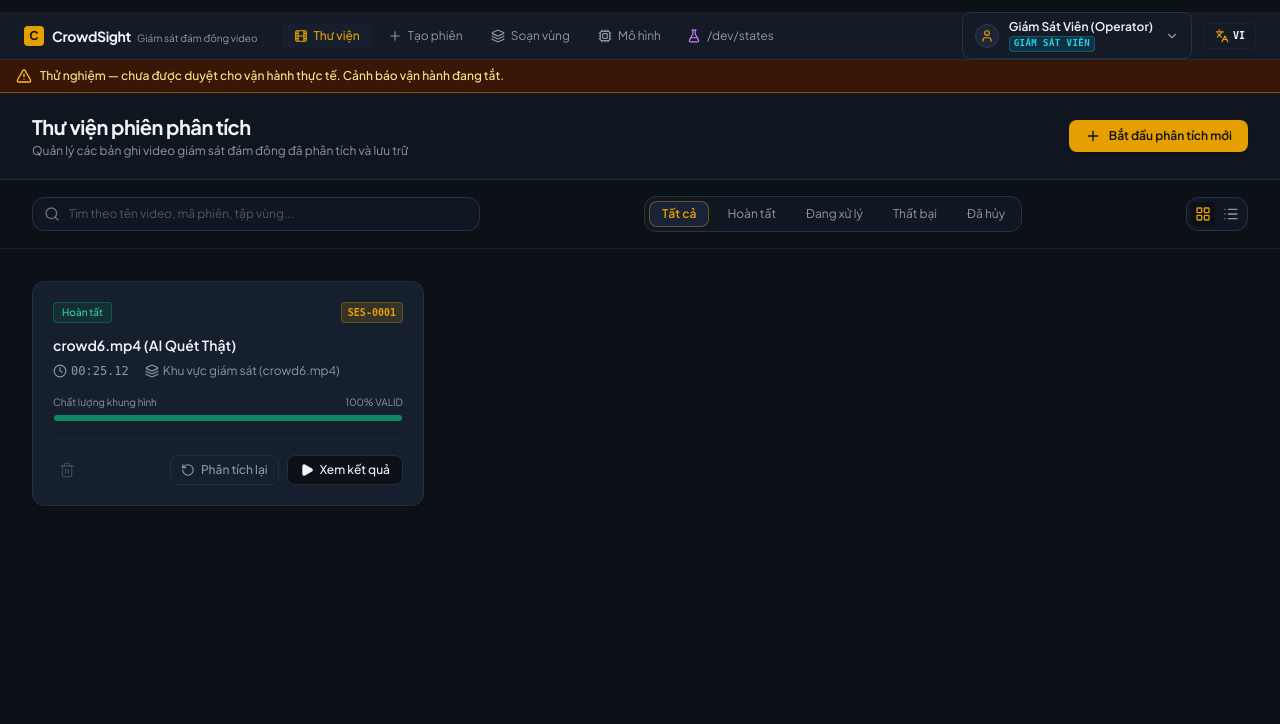
it: App Navigation and History Back behavior › supports in-app back from Model Status page to return to sessions
This screenshot has width=1280, height=724.
Go to Model page
What coordinates should you click on to do the following:
click the button "Mô hình"
I would click on:
 (629, 36)
Its box is [586,24,673,48].
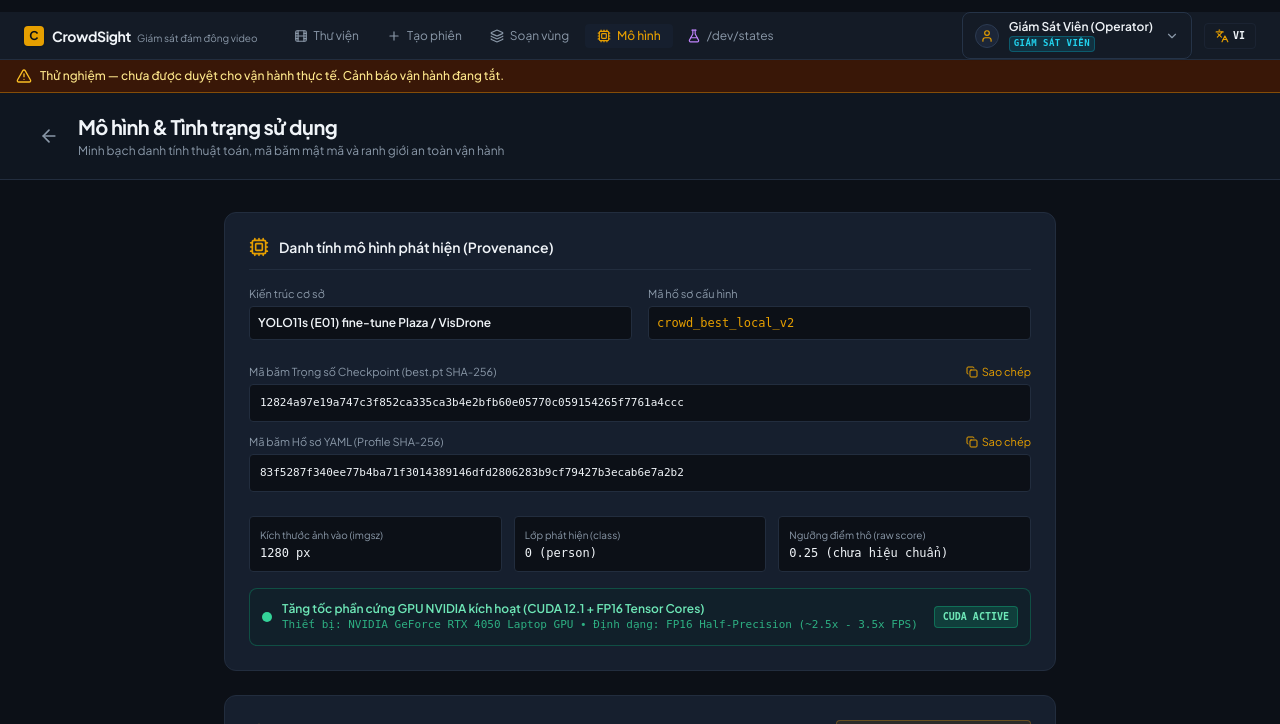
Expected: the heading "Mô hình & Tình trạng sử dụng" is shown, [78,114,337,139]
Click on Back button
What coordinates should you click on to do the following:
click the button titled "Quay lại"
I would click on:
 (49, 136)
Its box is [32,119,66,153].
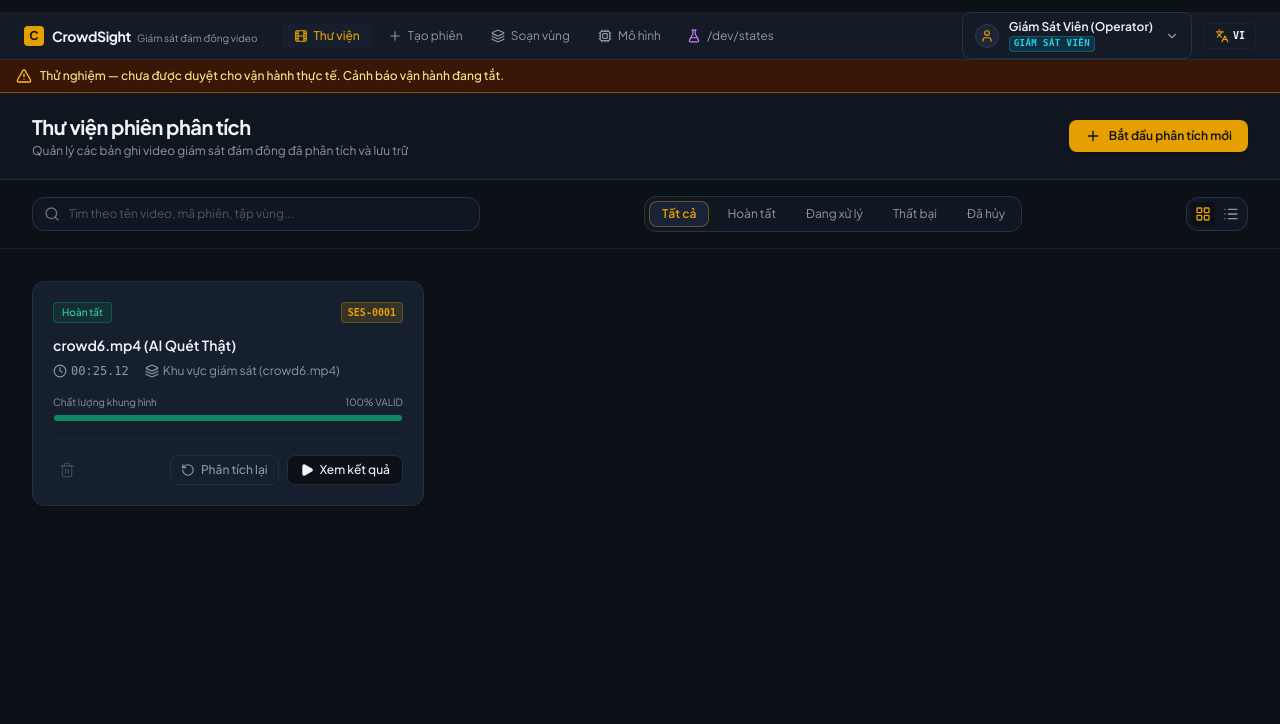
Expected: the heading "Thư viện phiên phân tích" is shown, [32,114,251,139]
